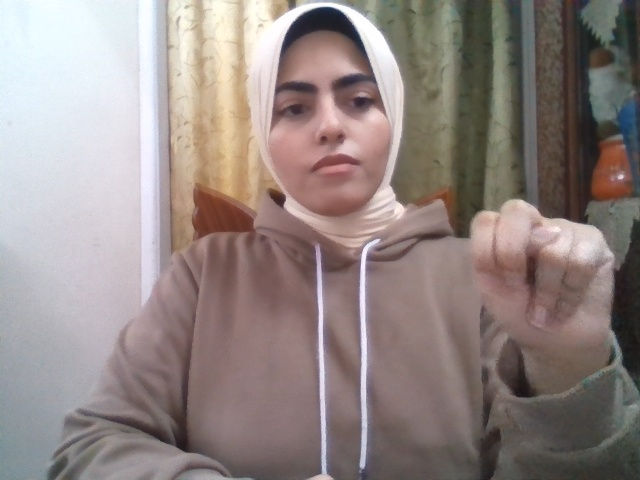N: (469, 198, 616, 349)
